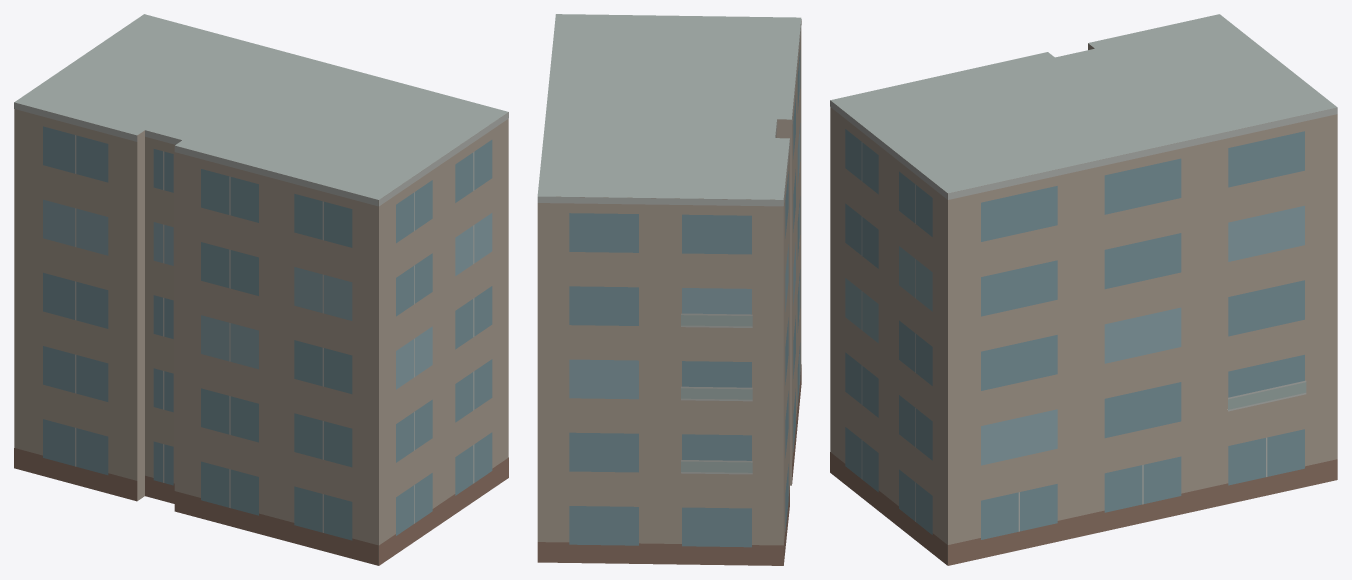
The model's file is survey-upis-32885849.glb.
3 renders of one model, left to right at view 1: azimuth 30°, elevation 25°; view 2: azimuth 150°, elevation 25°; view 3: azimuth 270°, elevation 25°, orthographic.
Parts seen in each view (by area): view 1: survey-upis-32885849.tmp; view 2: survey-upis-32885849.tmp; view 3: survey-upis-32885849.tmp.
Boxes of the visible parts, x1,y1,x2,y2 form: survey-upis-32885849.tmp: [14, 14, 508, 565]; survey-upis-32885849.tmp: [537, 14, 801, 565]; survey-upis-32885849.tmp: [830, 14, 1337, 565].
Size of the model in its own units: 14.16 by 13.7 by 16.93.
